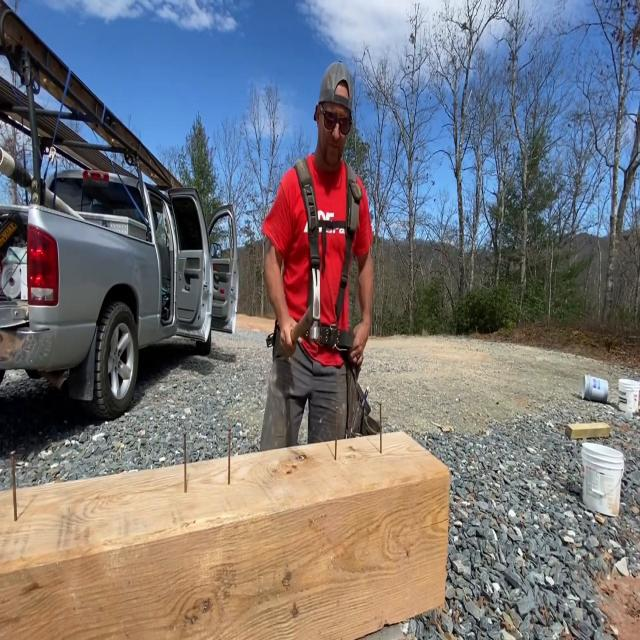hammer: (288, 264, 324, 348)
